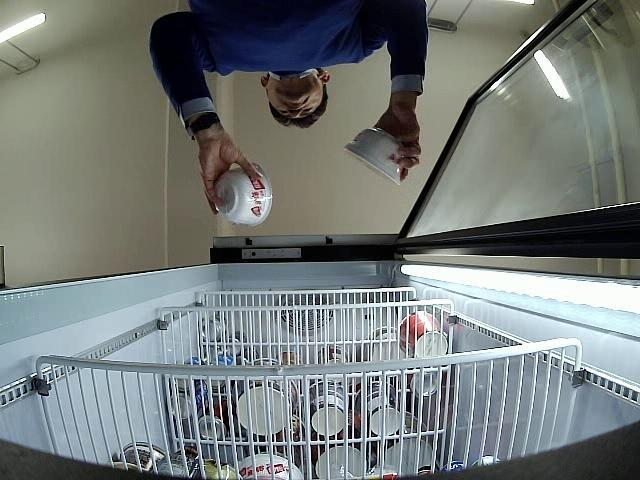09_yukGaeJang: (216, 165, 272, 226), (345, 129, 401, 185)
